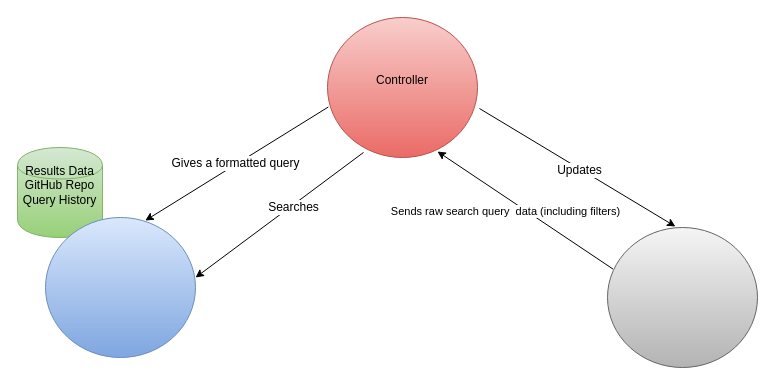
Image size: 775x385. Some labels were removed from this diagram. The shapes that lost their labels are listed below. From the top down, each one's centre as x and y in pixels, then its label:
(120,287): Model
(682,297): View
